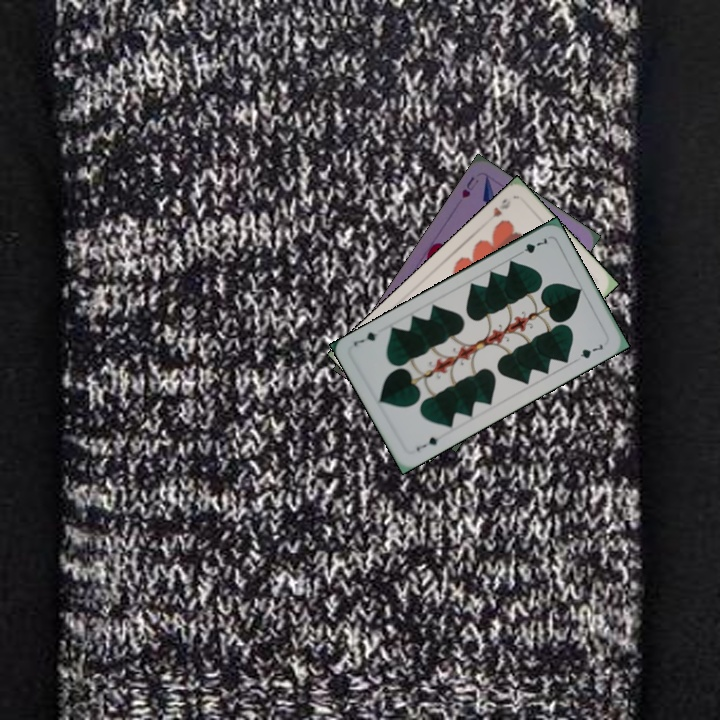G7: (513, 232, 550, 258), (412, 433, 441, 454)
H9: (482, 195, 513, 225)
HU: (458, 172, 481, 201)
